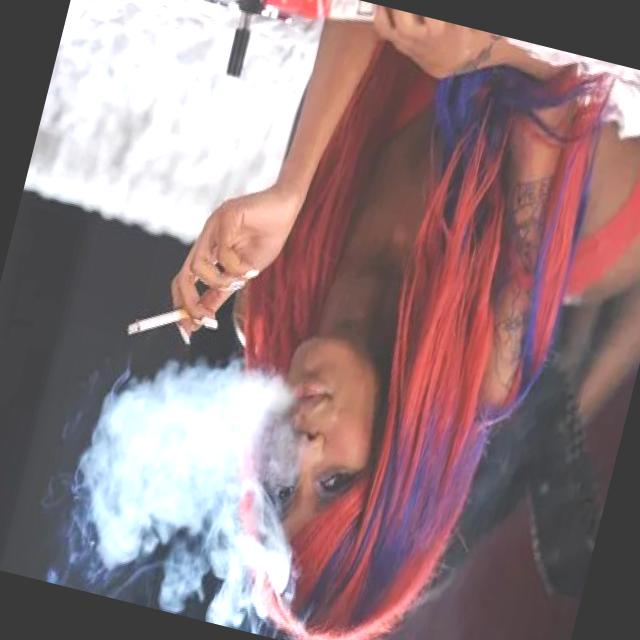cigarette: (124, 292, 197, 352)
